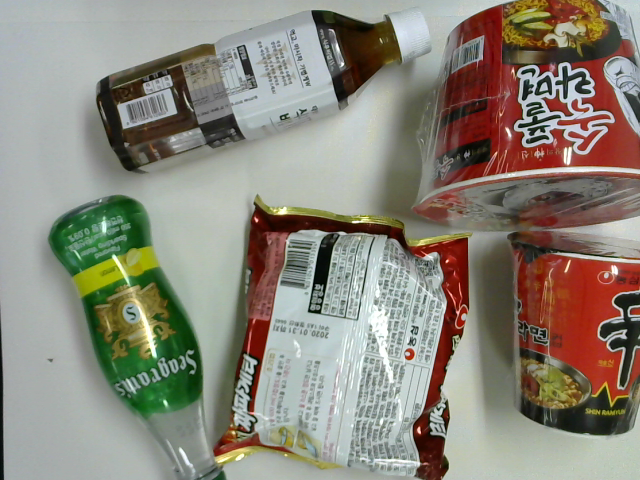Hejangpul: (411, 1, 639, 234)
Post-meal_recipe_W_tea_500ml: (93, 5, 435, 176)
Seagram_Lemon_Carbonated_Water: (45, 193, 228, 480)
Sichuan_Chapaghetti: (211, 193, 474, 480)
Sinramen_small: (508, 227, 640, 438)
